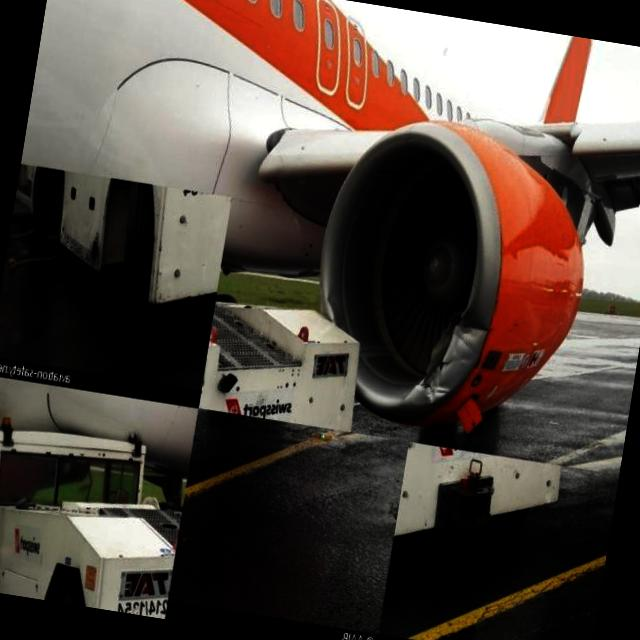crack: (419, 309, 462, 396)
dent: (452, 313, 492, 372), (308, 278, 348, 326), (422, 373, 458, 412)
